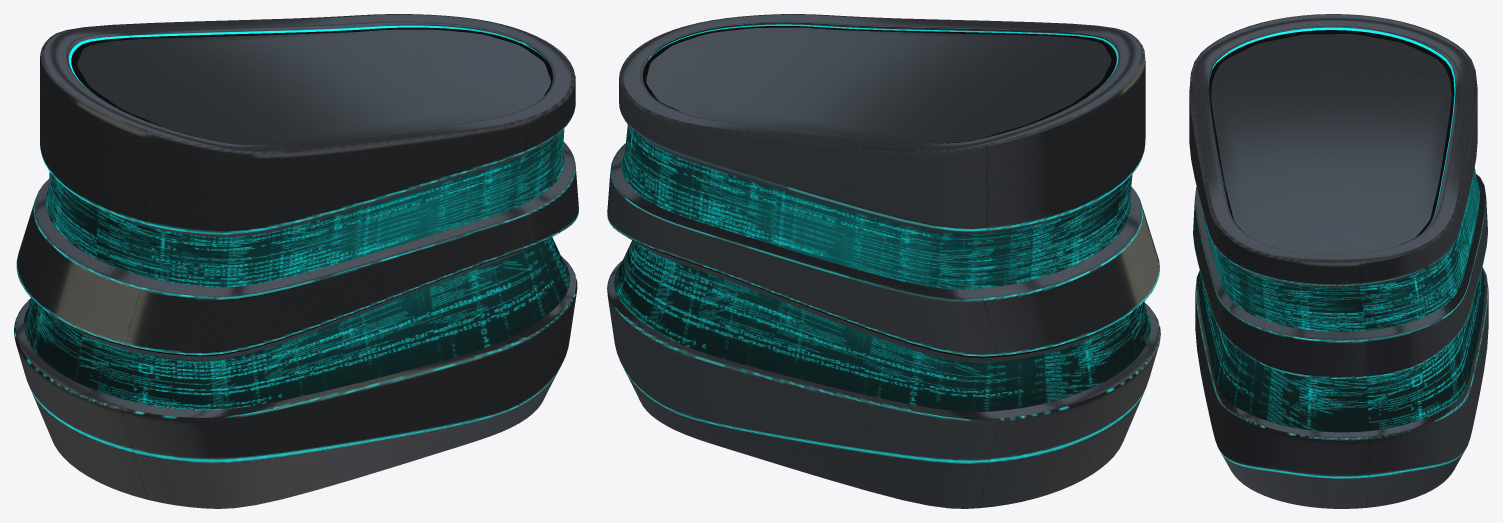
Rendered from Round_a.gltf.
The picture shows the model from 3 angles, left to right: view 1: azimuth 30°, elevation 25°; view 2: azimuth 150°, elevation 25°; view 3: azimuth 270°, elevation 25°; orthographic projection. The views are drawn at different scales.
Visible parts, largest first — view 1: Circle.001_Circle.004; view 2: Circle.001_Circle.004; view 3: Circle.001_Circle.004.
Part boxes in pixels (bbox=[...]): Circle.001_Circle.004: bbox=[14, 14, 578, 508]; Circle.001_Circle.004: bbox=[607, 14, 1160, 508]; Circle.001_Circle.004: bbox=[1189, 14, 1488, 508].
Size of the model in its own units: 98.65 by 69.97 by 60.98.
Materials: 3 (3 with a texture image).
